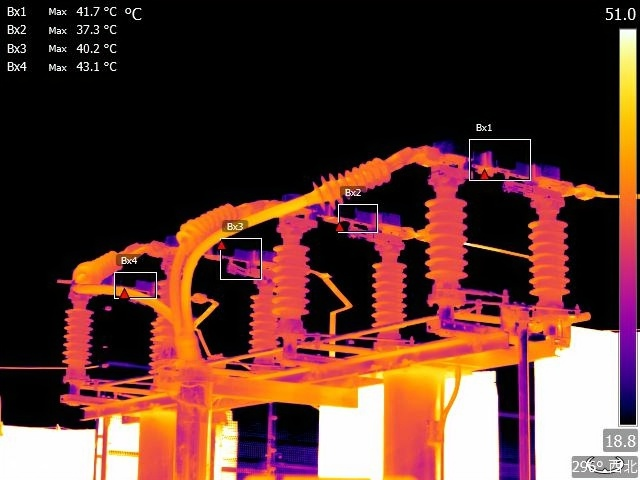post insulator: (419, 198, 472, 289), (526, 217, 577, 302), (268, 239, 311, 325), (368, 254, 413, 331), (54, 309, 101, 374), (245, 289, 282, 356), (147, 313, 181, 383)
switch: (429, 136, 571, 215), (276, 195, 408, 257), (160, 231, 281, 289), (64, 265, 172, 311)
tube: (309, 147, 395, 216), (179, 194, 241, 256), (71, 240, 124, 295)
